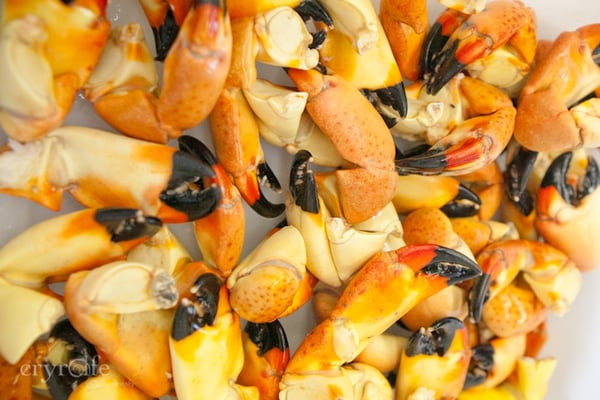pasta: (280, 242, 486, 395)
